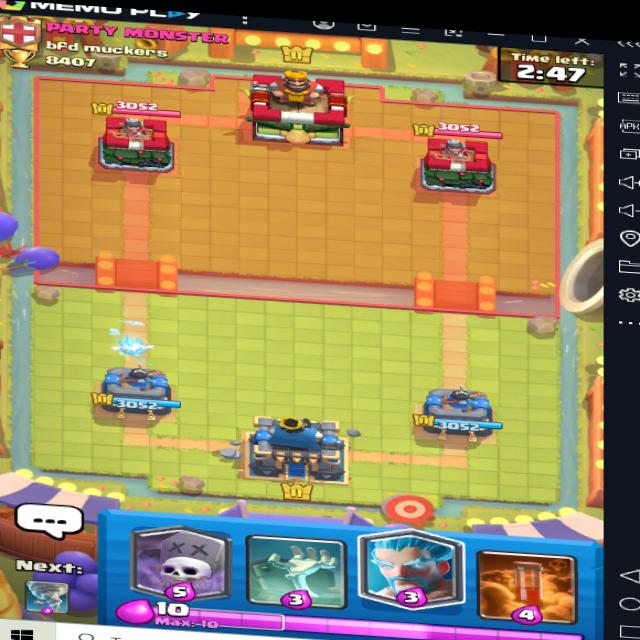ice-spirit: (106, 336, 152, 359)
